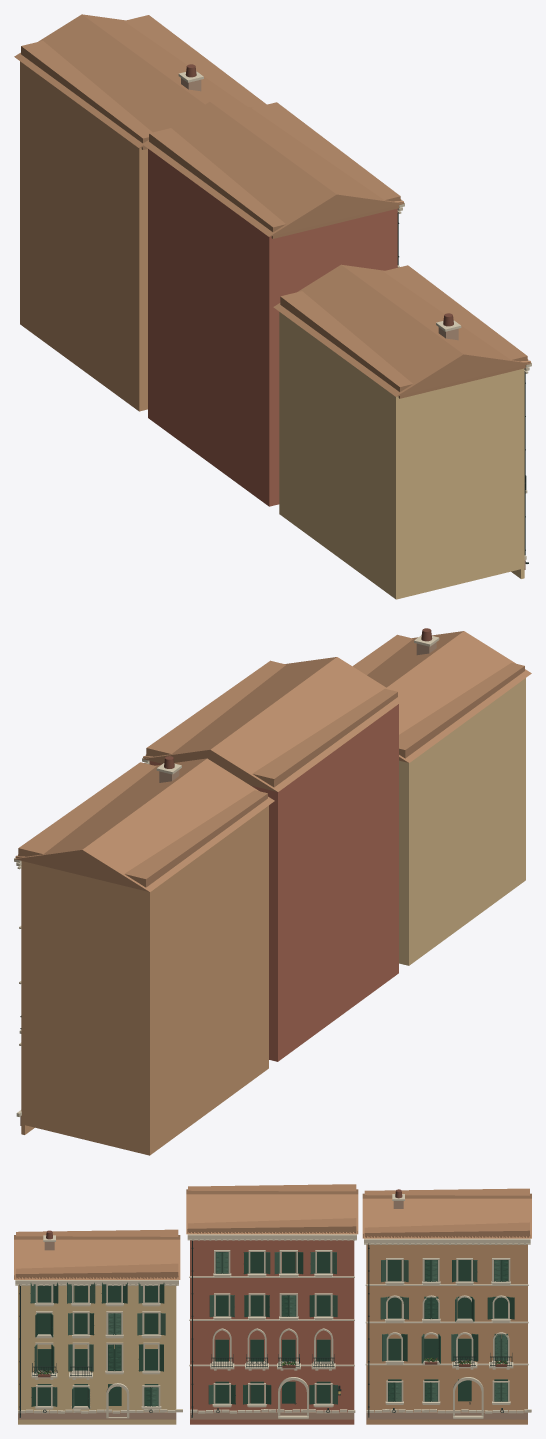
File: canal-10.glb
The picture shows the model from 3 angles, top to bottom: view 1: azimuth 30°, elevation 25°; view 2: azimuth 150°, elevation 25°; view 3: azimuth 270°, elevation 25°; orthographic projection. The views are drawn at different scales.
Parts seen in each view (by area): view 1: Main elevations / kit:walls:4, Main elevations / kit:roof, Main elevations / kit:walls:0, Distant elevations / kit:walls:2, Main elevations / kit:walls:2, Distant elevations / kit:roof, Distant elevations / kit:walls:0; view 2: Main elevations / kit:walls:4, Main elevations / kit:roof, Distant elevations / kit:walls:0, Main elevations / kit:walls:0, Main elevations / kit:walls:2, Distant elevations / kit:roof, Distant elevations / kit:walls:2; view 3: Distant elevations / kit:walls:4, Main elevations / kit:stone, Distant elevations / kit:walls:0, Main elevations / kit:roof, Distant elevations / kit:walls:2, Distant elevations / kit:greenDark, Distant elevations / kit:roof, Main elevations / kit:green, Main elevations / kit:greenDark, Main elevations / kit:brick, Near ironwork and plants / kit:iron, Near ironwork and plants / kit:green (+4 smaller).
Boxes of the visible parts, bbox=[...] form: Main elevations / kit:walls:4: bbox=[148, 149, 397, 506]; Main elevations / kit:roof: bbox=[14, 14, 530, 396]; Main elevations / kit:walls:0: bbox=[20, 61, 143, 411]; Distant elevations / kit:walls:2: bbox=[400, 368, 524, 598]; Main elevations / kit:walls:2: bbox=[279, 312, 524, 599]; Distant elevations / kit:roof: bbox=[21, 15, 527, 398]; Distant elevations / kit:walls:0: bbox=[143, 149, 147, 410]; Main elevations / kit:walls:4: bbox=[149, 704, 398, 1061]; Main elevations / kit:roof: bbox=[14, 631, 531, 891]; Distant elevations / kit:walls:0: bbox=[21, 861, 145, 1154]; Main elevations / kit:walls:0: bbox=[21, 805, 268, 1155]; Main elevations / kit:walls:2: bbox=[405, 678, 525, 965]; Distant elevations / kit:roof: bbox=[18, 634, 524, 887]; Distant elevations / kit:walls:2: bbox=[399, 760, 404, 964]; Distant elevations / kit:walls:4: bbox=[190, 1240, 354, 1412]; Main elevations / kit:stone: bbox=[15, 1194, 531, 1418]; Distant elevations / kit:walls:0: bbox=[366, 1244, 527, 1412]; Main elevations / kit:roof: bbox=[14, 1189, 531, 1279]; Distant elevations / kit:walls:2: bbox=[18, 1285, 176, 1412]; Distant elevations / kit:greenDark: bbox=[37, 1252, 507, 1405]; Distant elevations / kit:roof: bbox=[16, 1184, 529, 1278]; Main elevations / kit:green: bbox=[30, 1252, 507, 1408]; Main elevations / kit:greenDark: bbox=[31, 1252, 514, 1406]; Main elevations / kit:brick: bbox=[18, 1201, 527, 1419]; Near ironwork and plants / kit:iron: bbox=[19, 1240, 512, 1417]; Near ironwork and plants / kit:green: bbox=[108, 1253, 507, 1404].
Size of the model in its own units: 9.22 by 19.12 by 41.43.
